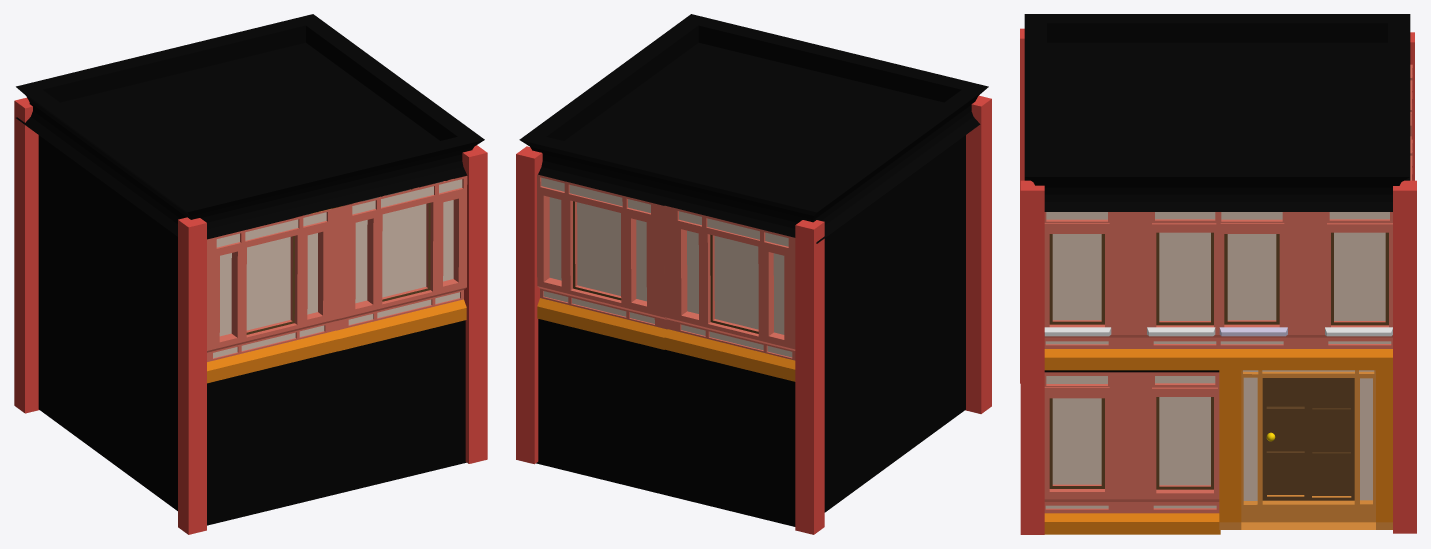
Rendered from blgd_orangelow.fbx.
The picture shows the model from 3 angles, left to right: view 1: azimuth 30°, elevation 25°; view 2: azimuth 150°, elevation 25°; view 3: azimuth 270°, elevation 25°; orthographic projection. The views are drawn at different scales.
Visible parts, largest first — view 1: Cube.013, Plane.026, Plane.027, Plane.034, Plane.033, Plane.028, pillar3.001, pillar2.001, pillar4.001; view 2: Cube.013, Plane.024, Plane.027, Plane.031, Plane.015, Plane.028, pillar2.001, pillar3.001, pillar1.001; view 3: Cube.013, Plane.036, Plane.023, Plane.008, Plane.029, pillar4.001, pillar1.001, pillar3.001, Cube.010, Cube.011, Cube.009, Cube.012 (+2 smaller).
Part boxes in pixels (<box>): Cube.013: <box>16,14,484,238</box>; Plane.026: <box>207,320,466,525</box>; Plane.027: <box>38,265,177,510</box>; Plane.034: <box>207,206,340,383</box>; Plane.033: <box>336,176,467,350</box>; Plane.028: <box>38,135,177,366</box>; pillar3.001: <box>178,217,206,534</box>; pillar2.001: <box>14,97,38,413</box>; pillar4.001: <box>458,145,487,463</box>; Cube.013: <box>519,14,988,243</box>; Plane.024: <box>536,319,795,526</box>; Plane.027: <box>824,265,965,512</box>; Plane.031: <box>664,205,795,381</box>; Plane.015: <box>537,174,667,349</box>; Plane.028: <box>824,135,965,367</box>; pillar2.001: <box>795,220,824,534</box>; pillar3.001: <box>965,95,991,413</box>; pillar1.001: <box>516,146,542,464</box>; Cube.013: <box>1024,14,1410,211</box>; Plane.036: <box>1044,372,1220,534</box>; Plane.023: <box>1219,370,1392,529</box>; Plane.008: <box>1216,212,1392,370</box>; Plane.029: <box>1044,212,1220,370</box>; pillar4.001: <box>1020,180,1044,534</box>; pillar1.001: <box>1393,180,1416,533</box>; pillar3.001: <box>1020,28,1024,383</box>; Cube.010: <box>1219,327,1287,336</box>; Cube.011: <box>1147,327,1215,336</box>; Cube.009: <box>1325,327,1392,336</box>; Cube.012: <box>1044,327,1111,336</box>.
Size of the model in its own units: 2.16 by 2.22 by 2.21.
